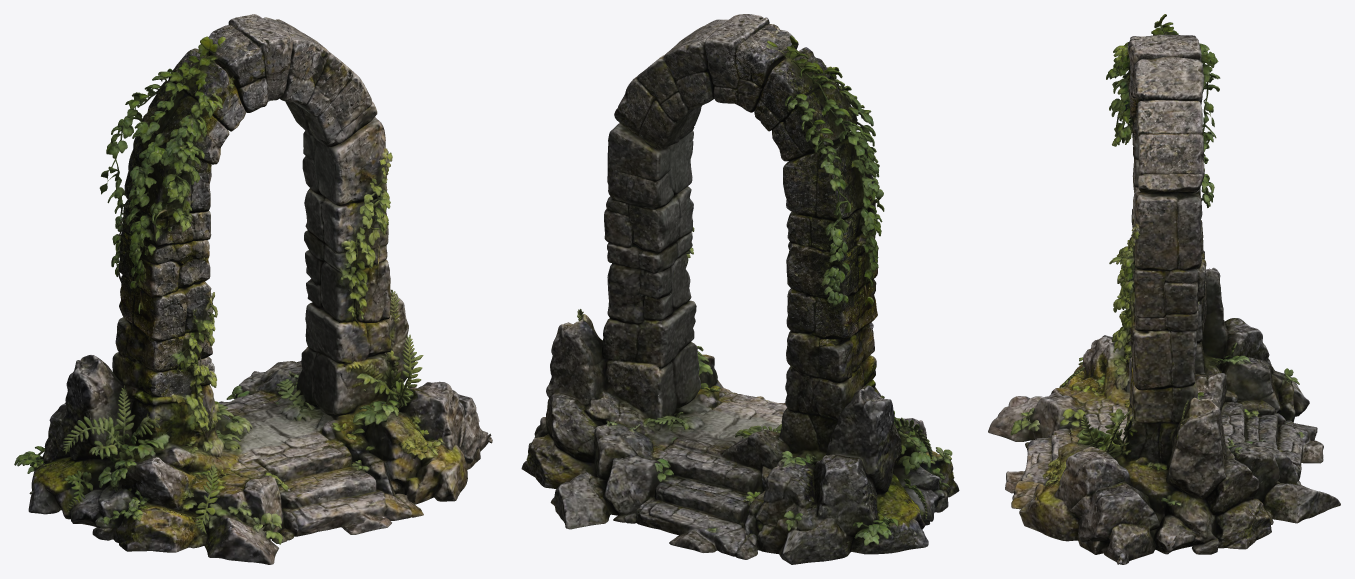
Rendered from intro-arch.glb.
The picture shows the model from 3 angles, left to right: view 1: azimuth 30°, elevation 25°; view 2: azimuth 150°, elevation 25°; view 3: azimuth 270°, elevation 25°; orthographic projection. The views are drawn at different scales.
Visible parts, largest first — view 1: intro-arch; view 2: intro-arch; view 3: intro-arch.
Boxes of the visible parts, x1,y1,x2,y2 form: intro-arch: (14,14,492,564); intro-arch: (521,14,959,564); intro-arch: (988,14,1340,564).
Bounding box in the file's own units: 0.9476 × 0.9819 × 0.7277.
1 material, 1 textured.
